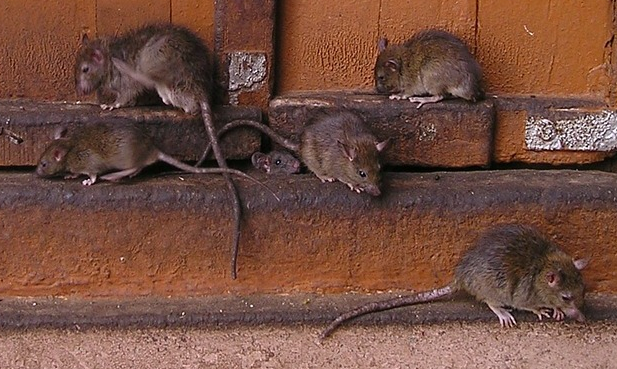rat: (383, 218, 597, 334), (65, 17, 225, 124), (262, 100, 399, 204), (32, 116, 205, 189), (372, 23, 496, 111)
